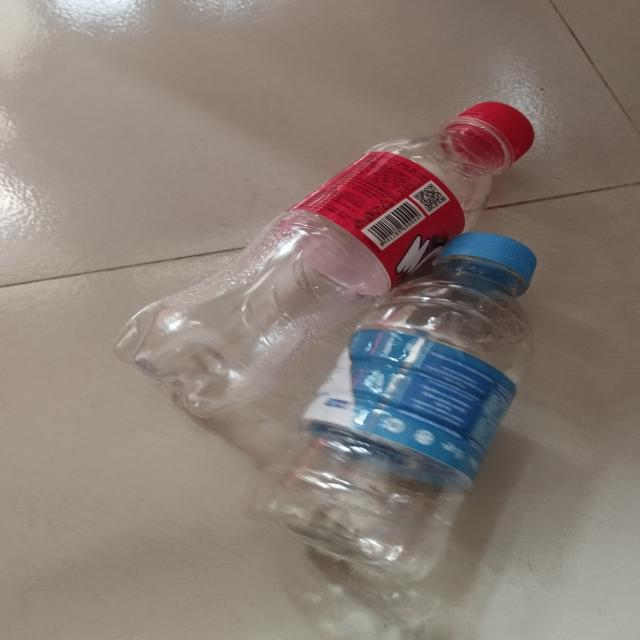plastic: (108, 98, 531, 414), (248, 231, 537, 587)
